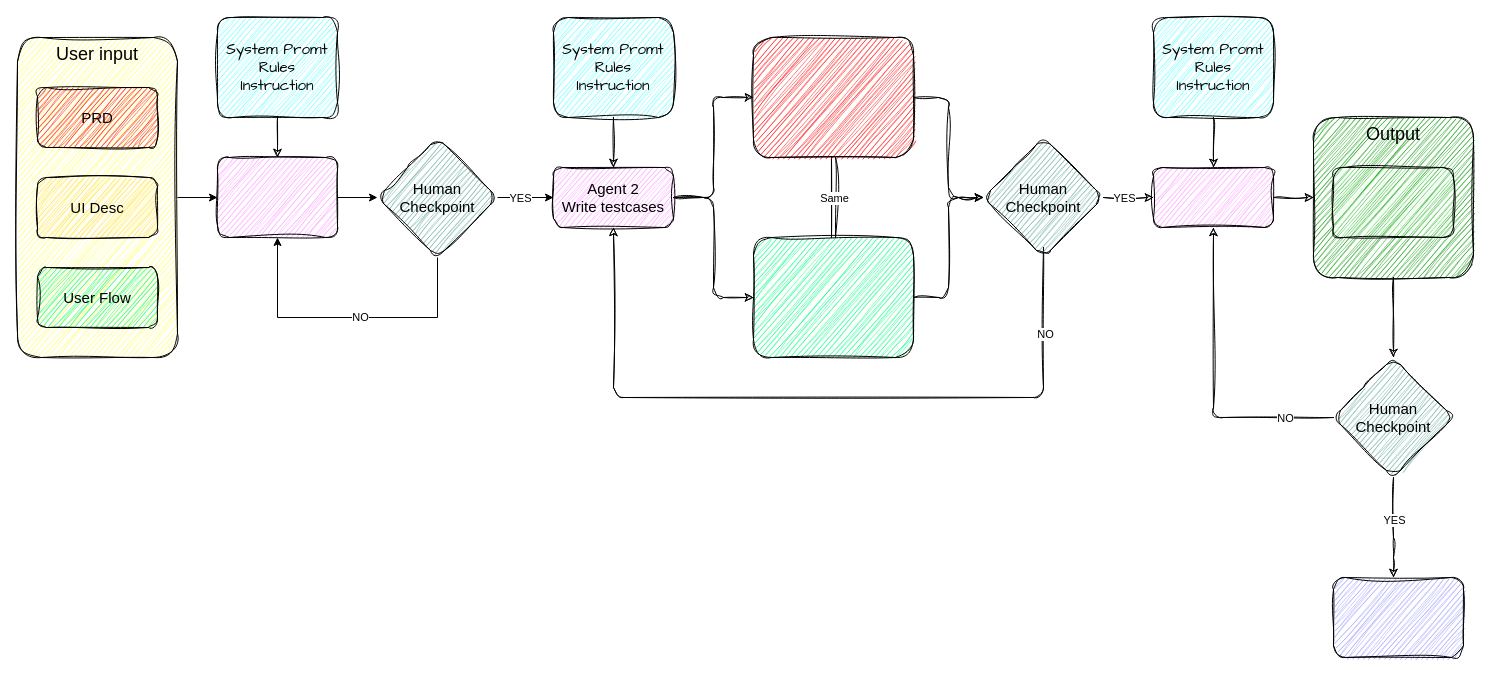
This 1491x675 diagram has some shape labels left out. The shapes that lost their labels are listed below. From the top down, each one's centre as x and y in pixels, then its label:
At point 833,97: "Testcase File Excel".
At point 277,197: "Agent 1 Extract feature contents".
At point 1213,197: "Agent 3 Convert to YAML".
At point 1393,202: "Scripts (Multiple YAML Files)".
At point 833,297: "Testcase File JSON".
At point 1398,617: "MOBILE AUTO TOOL".
